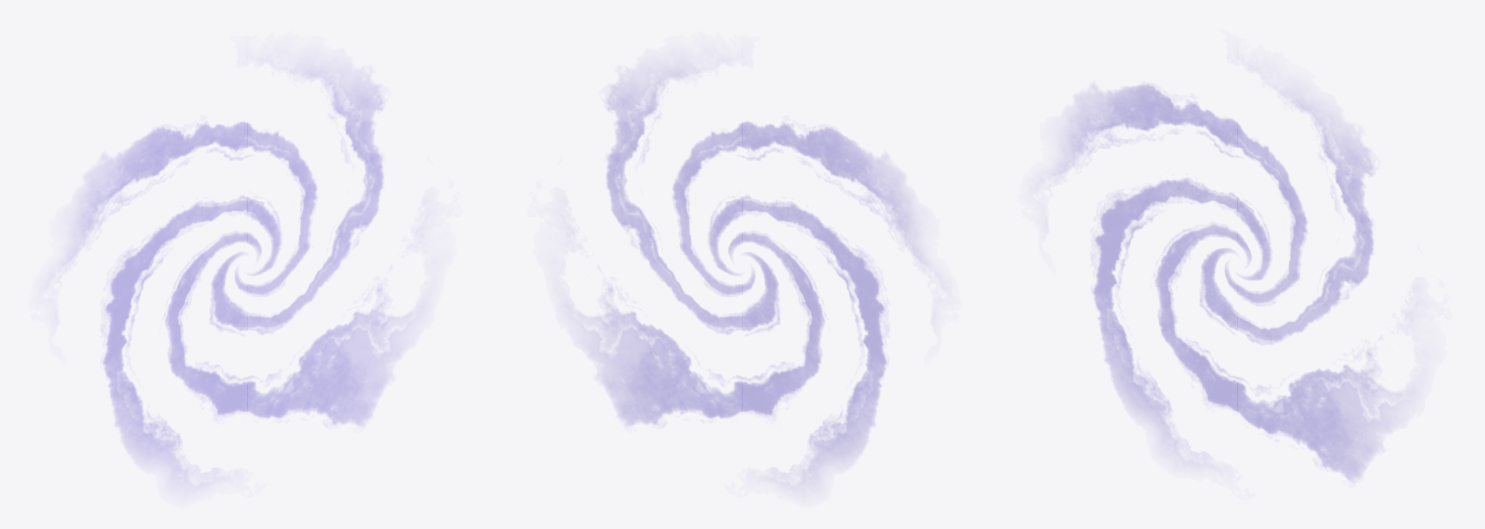
The model's file is sky_swirl_b.glb.
3 renders of one model, left to right at view 1: azimuth 30°, elevation 25°; view 2: azimuth 150°, elevation 25°; view 3: azimuth 330°, elevation 25°, orthographic.
Parts seen in each view (by area): view 1: sky_swirl_b; view 2: sky_swirl_b; view 3: sky_swirl_b.
Boxes of the visible parts, x1,y1,x2,y2 form: sky_swirl_b: (63,66,423,485); sky_swirl_b: (566,66,926,485); sky_swirl_b: (1053,84,1413,481).
Size of the model in its own units: 2 by 2 by 0.
Materials: 1 (1 with a texture image).
